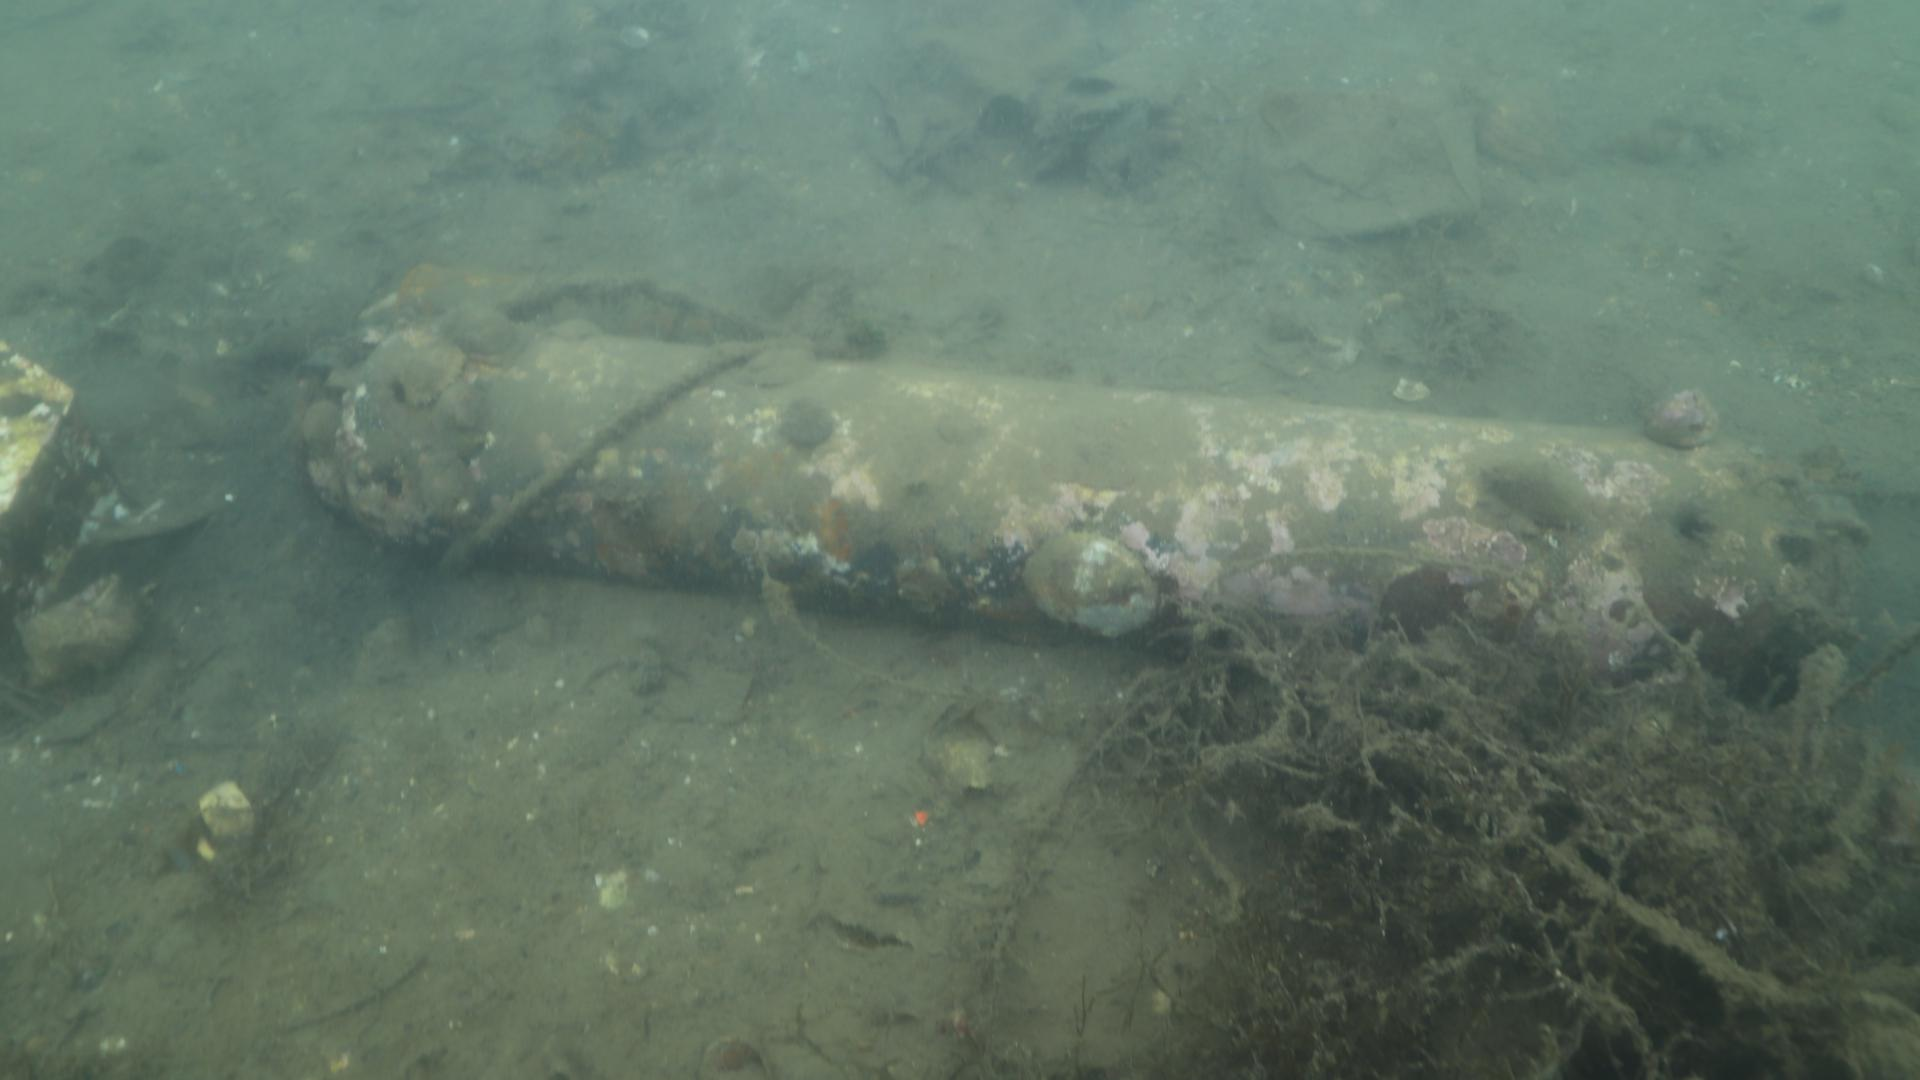eel fish trap: (306, 320, 1859, 702)
rope: (426, 268, 771, 589)
